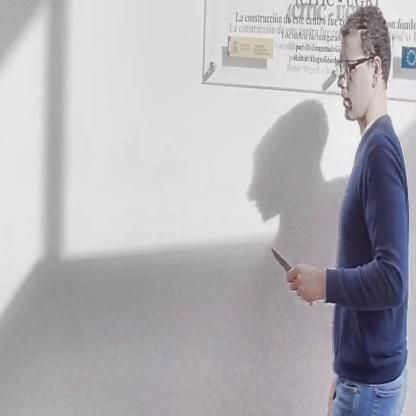knife: (268, 241, 315, 309)
